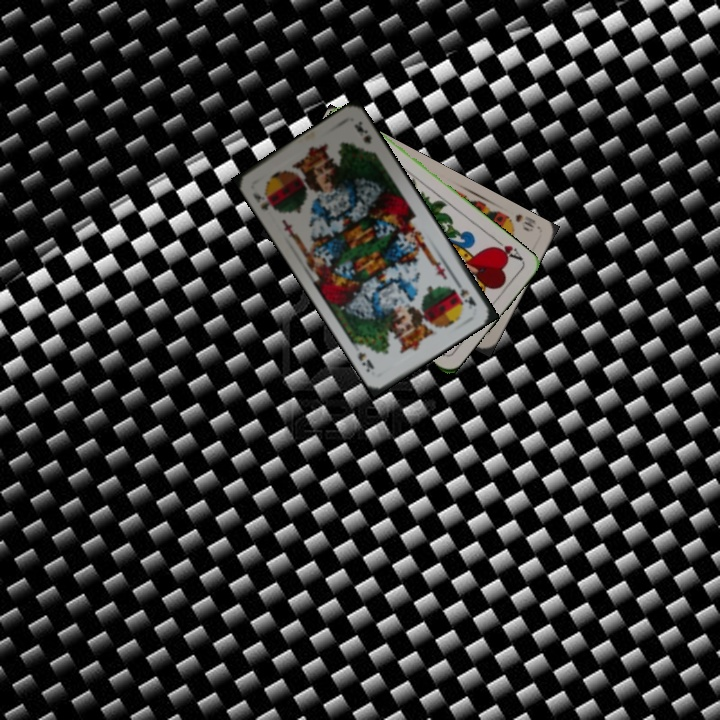HA: (488, 234, 526, 263)
S10: (501, 210, 539, 234)
SK: (451, 276, 479, 309), (249, 186, 279, 213)
